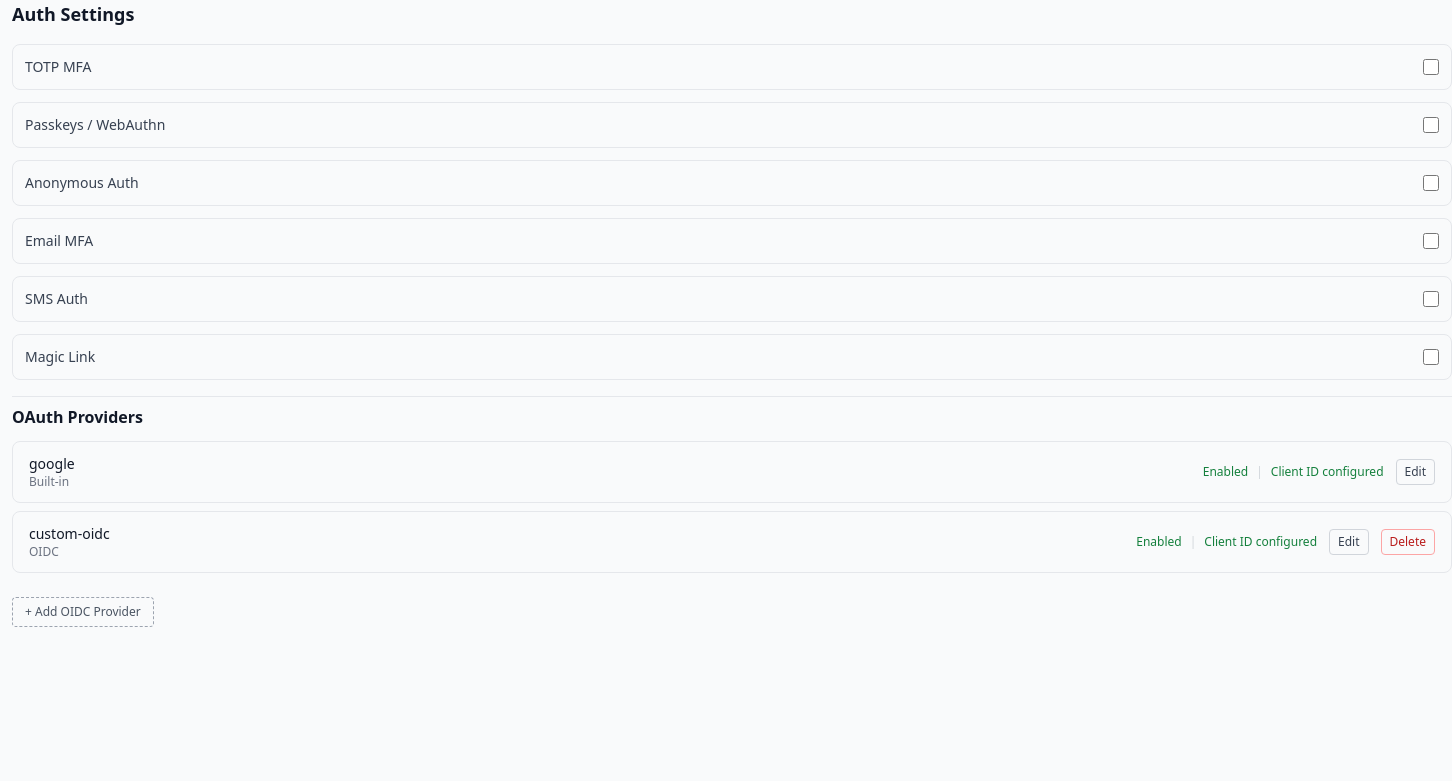
Test case: AuthSettings › shows OIDC-only edit fields for OIDC providers
Click the button "Edit" in the row of "google" at (1415, 472), box [1396,459,1435,485]
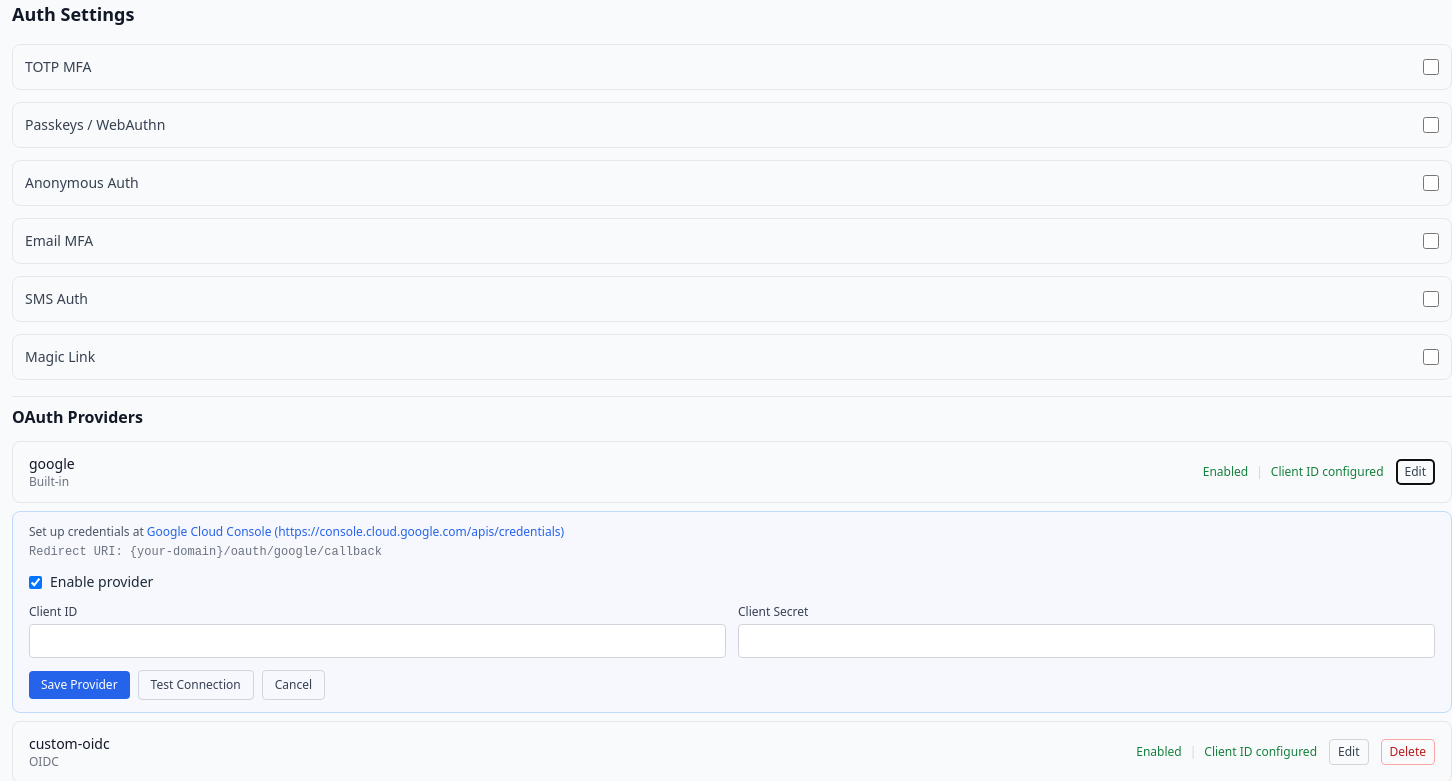
Click the button with test id "provider-edit-custom-oidc" at (1349, 752), box [1329,739,1368,765]
(page scrolled)
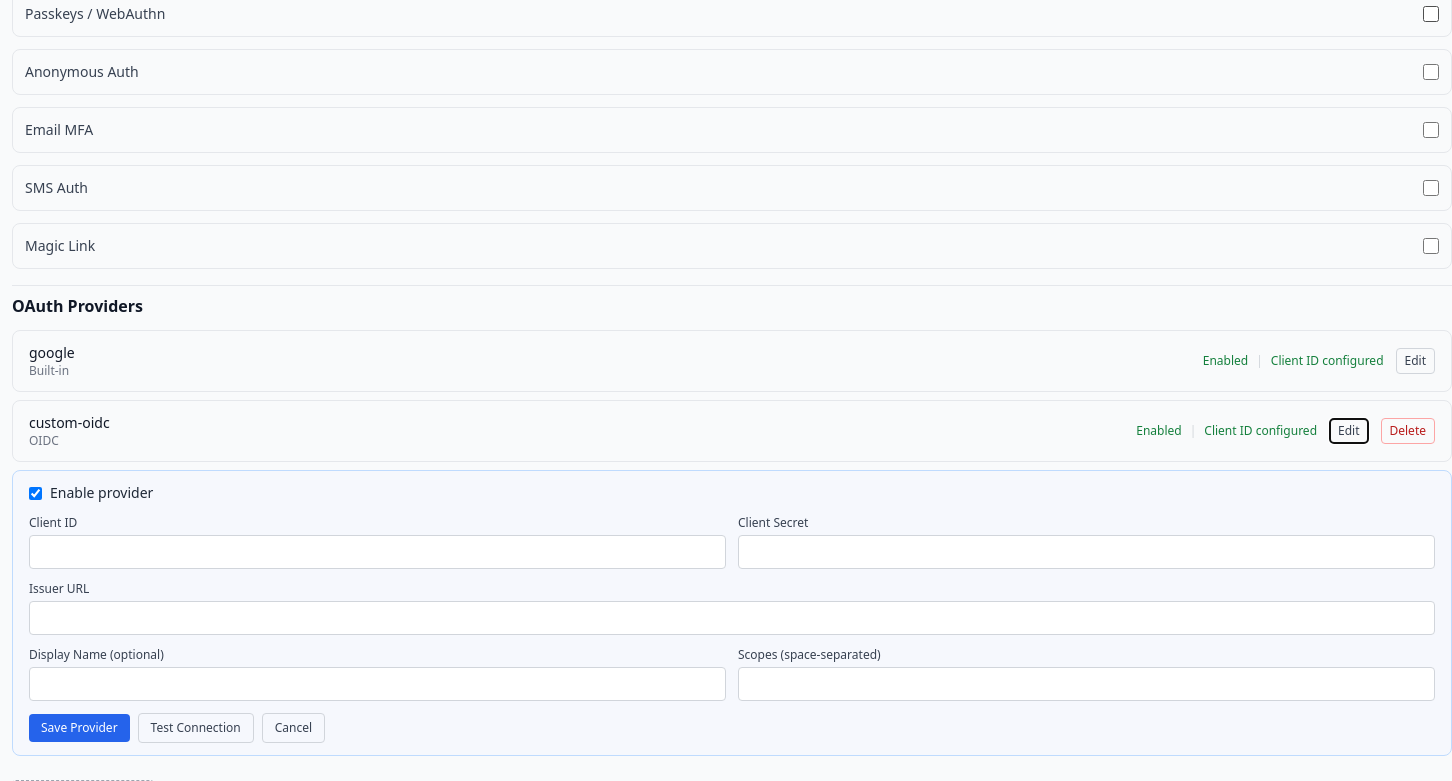
Now the field with test id "provider-form-issuer-url" is shown, box [29,601,1435,635]
Now the field with test id "provider-form-display-name" is shown, box [29,667,726,701]
Now the field with test id "provider-form-scopes" is shown, box [738,667,1435,701]
